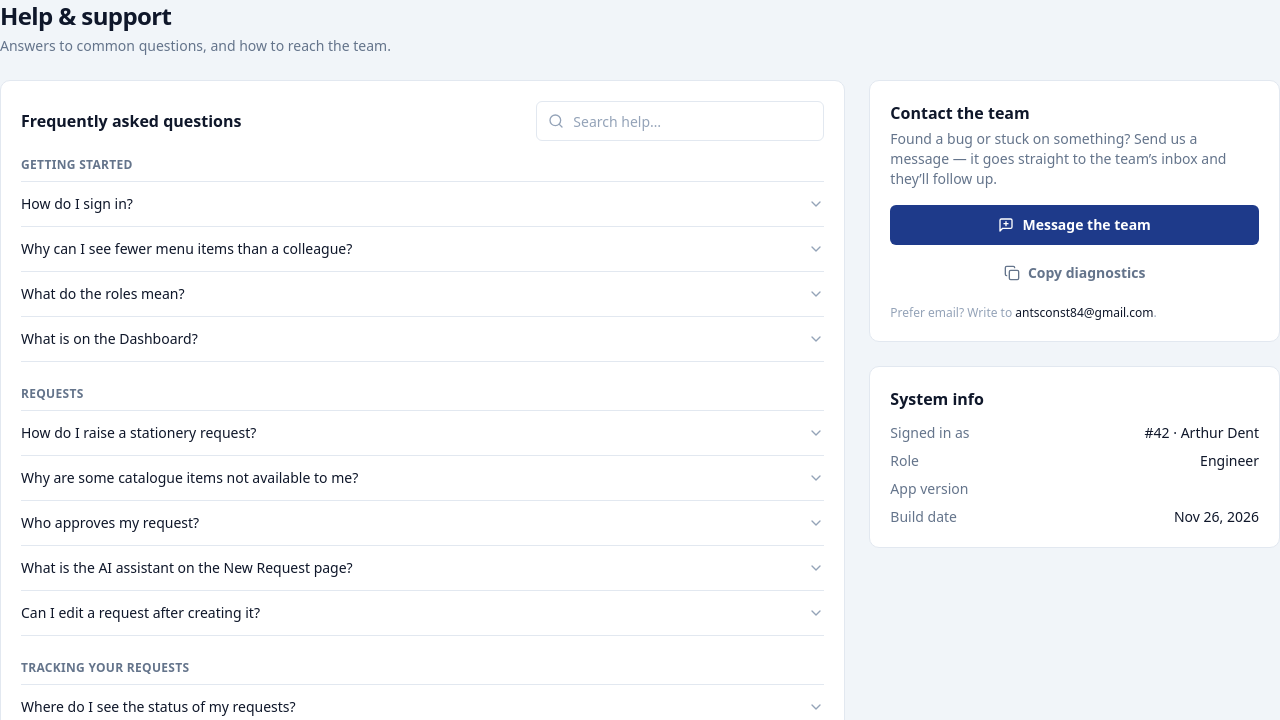
Test: Help page › sends a message through the in-app dialog, not a mailto link
Click the button "Message the team": click(1075, 225) [890, 205, 1259, 245]
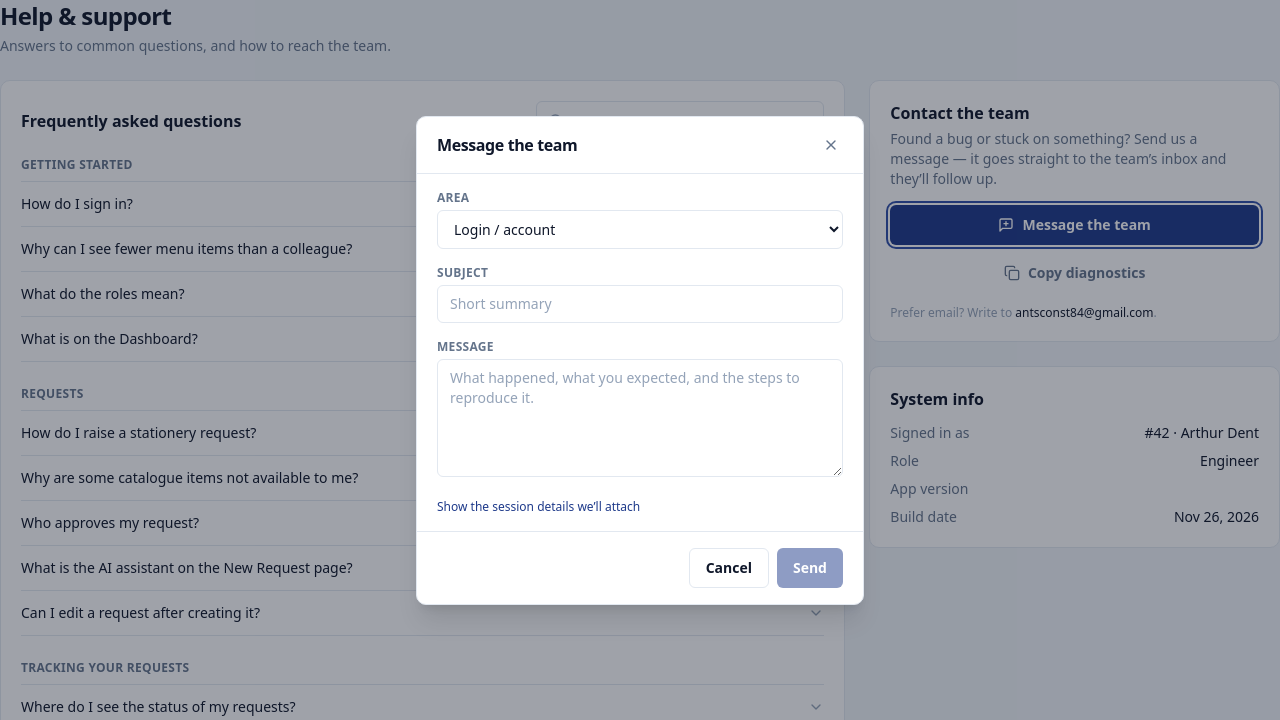
expect the dialog "Message the team" is shown: met, box [416, 116, 864, 604]
expect the button "Send" is disabled: met, box [777, 548, 843, 588]
In the field with placeholder "Short summary": (640, 304) [437, 284, 843, 322], type "Approve button broken"
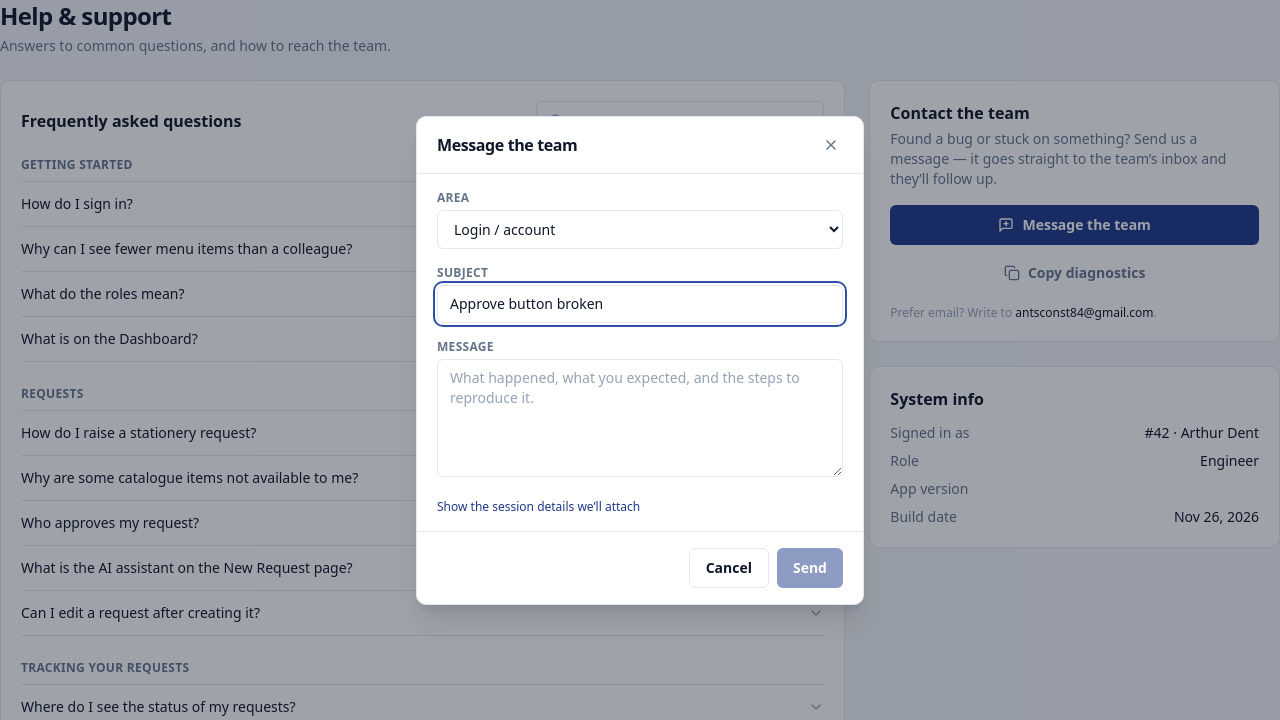
In the text box with placeholder "What happened": (640, 418) [437, 358, 843, 476], type "It spins forever on request 5."
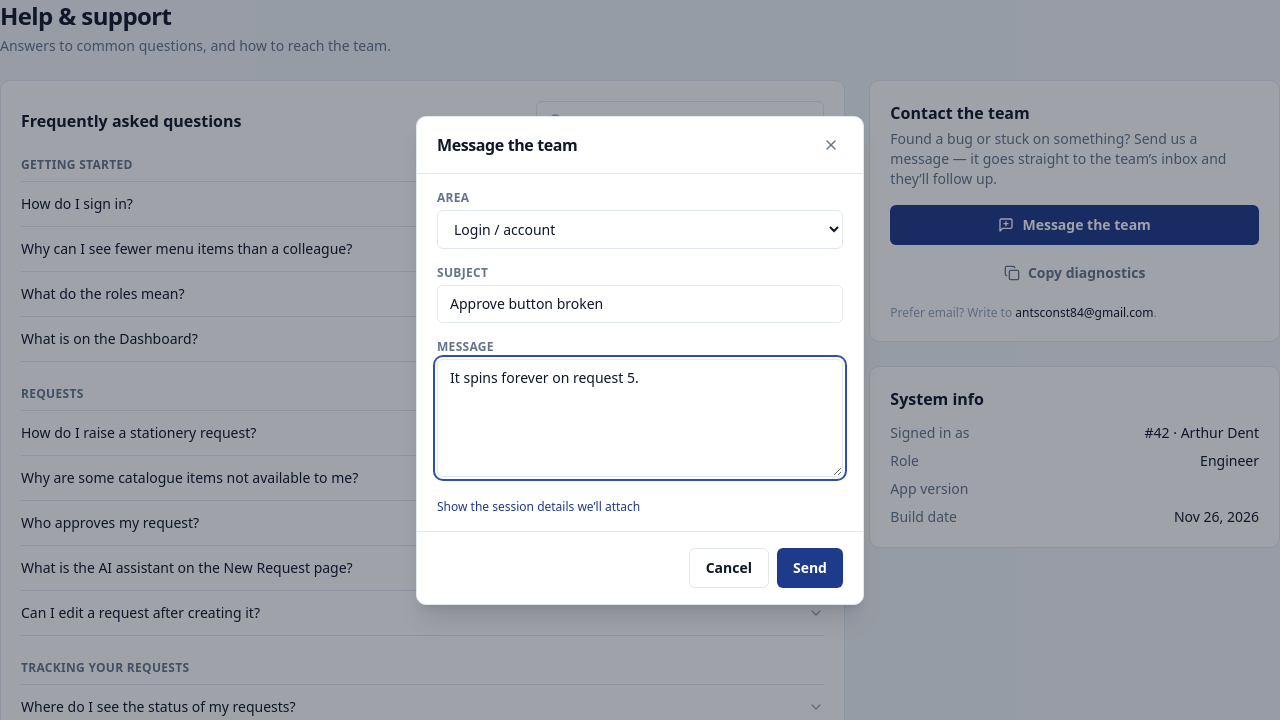
Click the button "Send": click(810, 568) [777, 548, 843, 588]
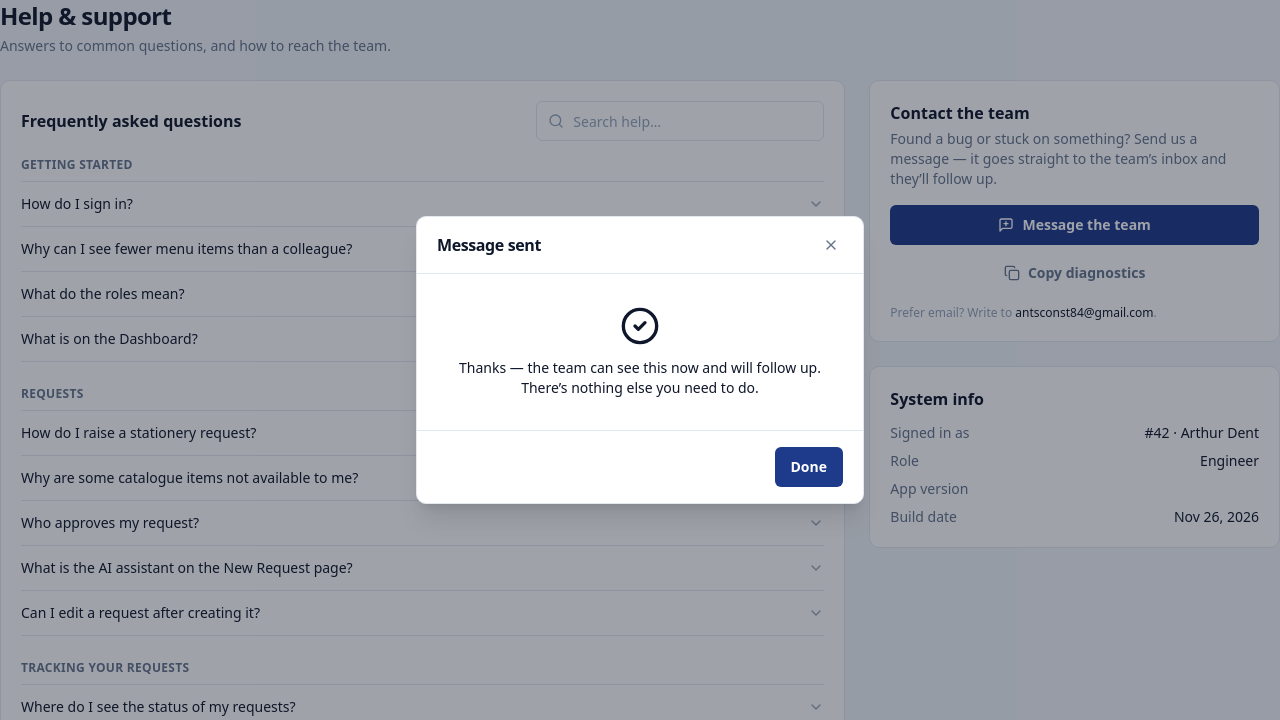
expect the text "the team can see this now" is shown: met, box [459, 358, 821, 397]
